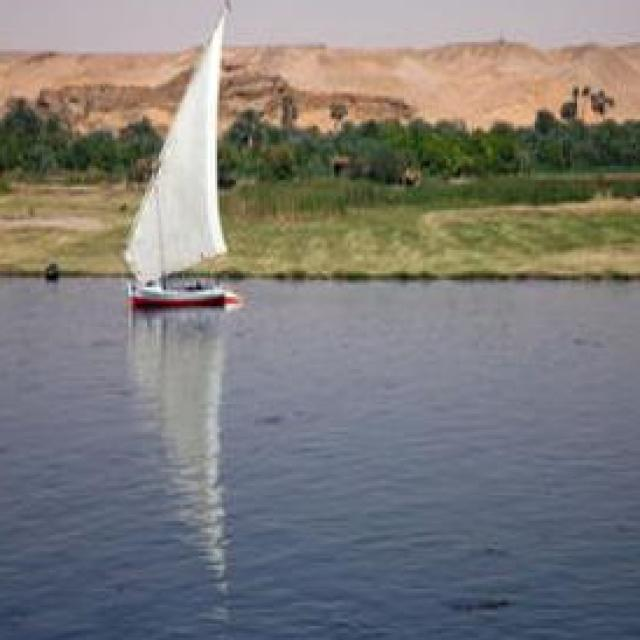sailboat: (117, 0, 256, 316)
